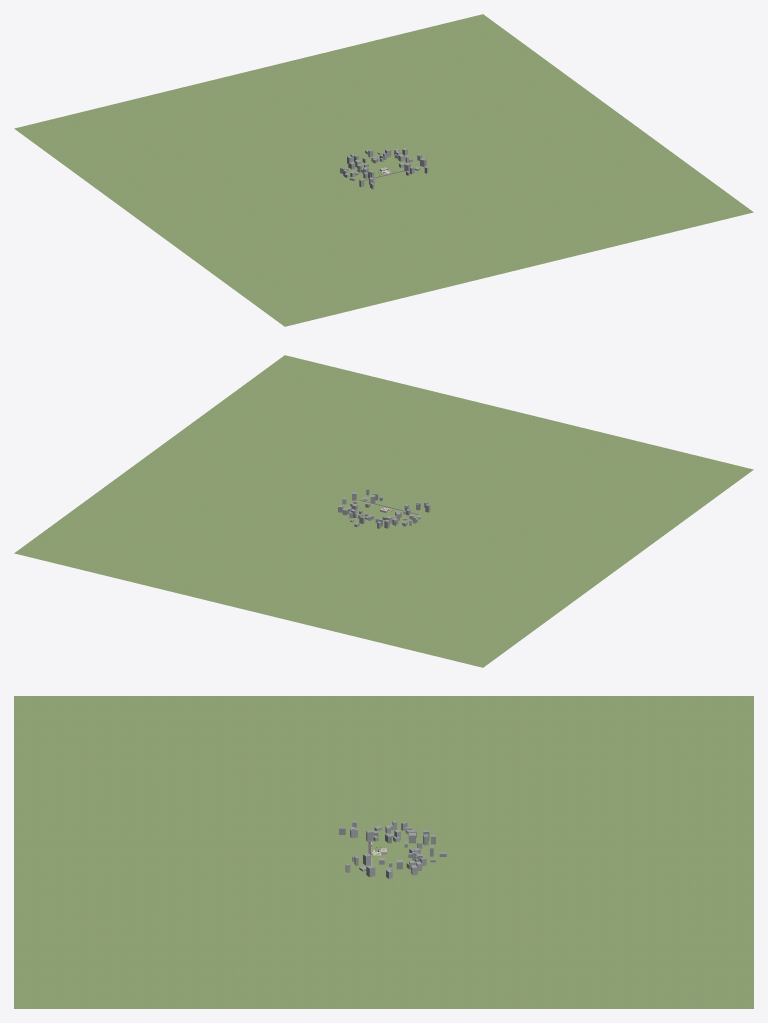
File: creativ-batiment.glb
The picture shows the model from 3 angles, top to bottom: view 1: azimuth 30°, elevation 25°; view 2: azimuth 150°, elevation 25°; view 3: azimuth 270°, elevation 25°; orthographic projection. The views are drawn at different scales.
Visible parts, largest first — view 1: Sol_exterieur, Ville; view 2: Sol_exterieur, Ville; view 3: Sol_exterieur, Ville.
Part boxes in pixels (x1,y1,x2,y2): Sol_exterieur: (14, 14, 753, 326); Ville: (340, 148, 428, 189); Sol_exterieur: (14, 355, 753, 667); Ville: (338, 488, 430, 528); Sol_exterieur: (14, 696, 753, 1008); Ville: (339, 820, 446, 878).
Bounding box in the file's own units: 3200 × 45.07 × 3200.
59 materials, 24 textured.
